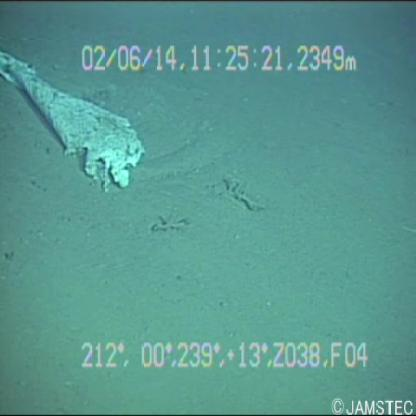Rác: (1, 45, 153, 201)
